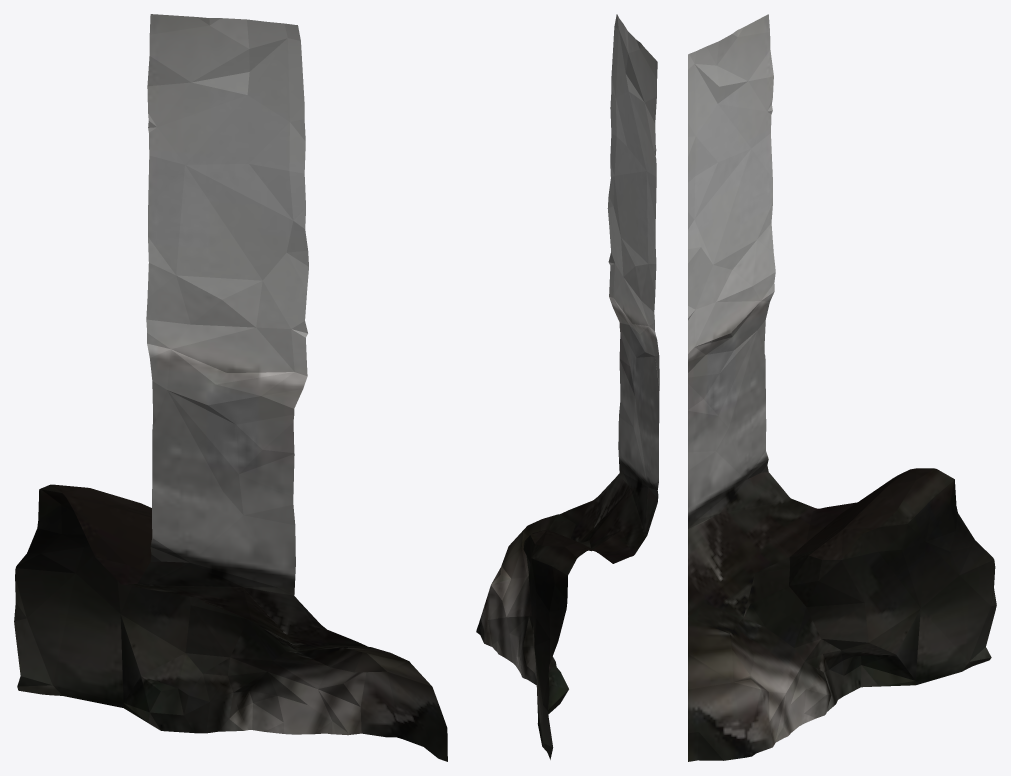
3 views of the same model, side by side, from view 1: azimuth 30°, elevation 25°; view 2: azimuth 150°, elevation 25°; view 3: azimuth 270°, elevation 25° (orthographic). The views are drawn at different scales.
Bounding box in the file's own units: 0.2822 × 0.8374 × 0.3624.
Materials: 1 (1 with a texture image).
